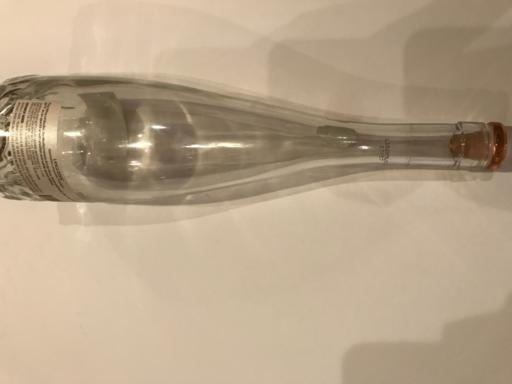botolkaca: (1, 75, 512, 199)
